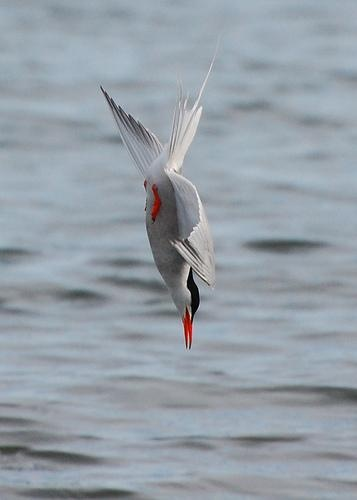bird: (90, 42, 236, 348)
